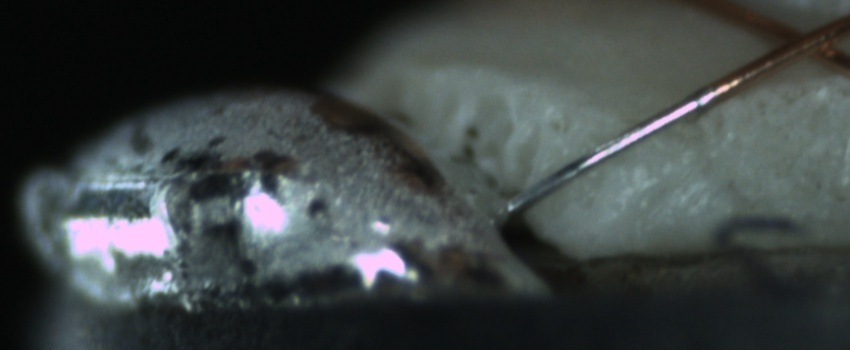CL: (753, 11, 847, 72)
TS: (493, 87, 716, 224)
